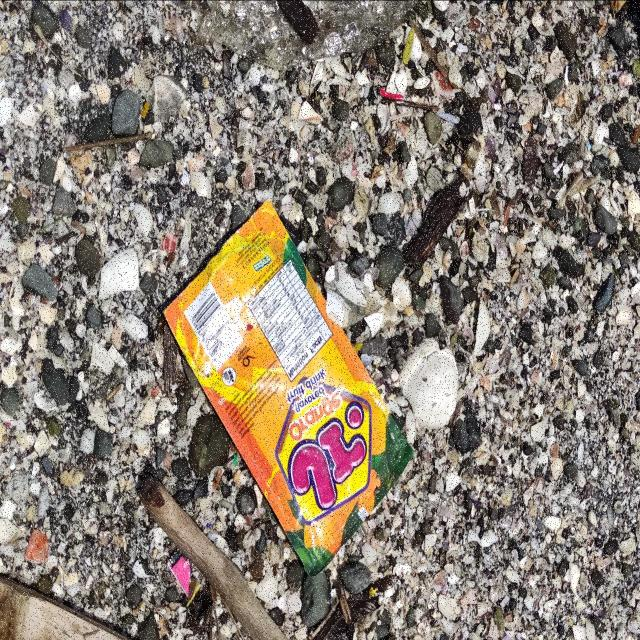plastic_waste: (158, 196, 409, 574)
